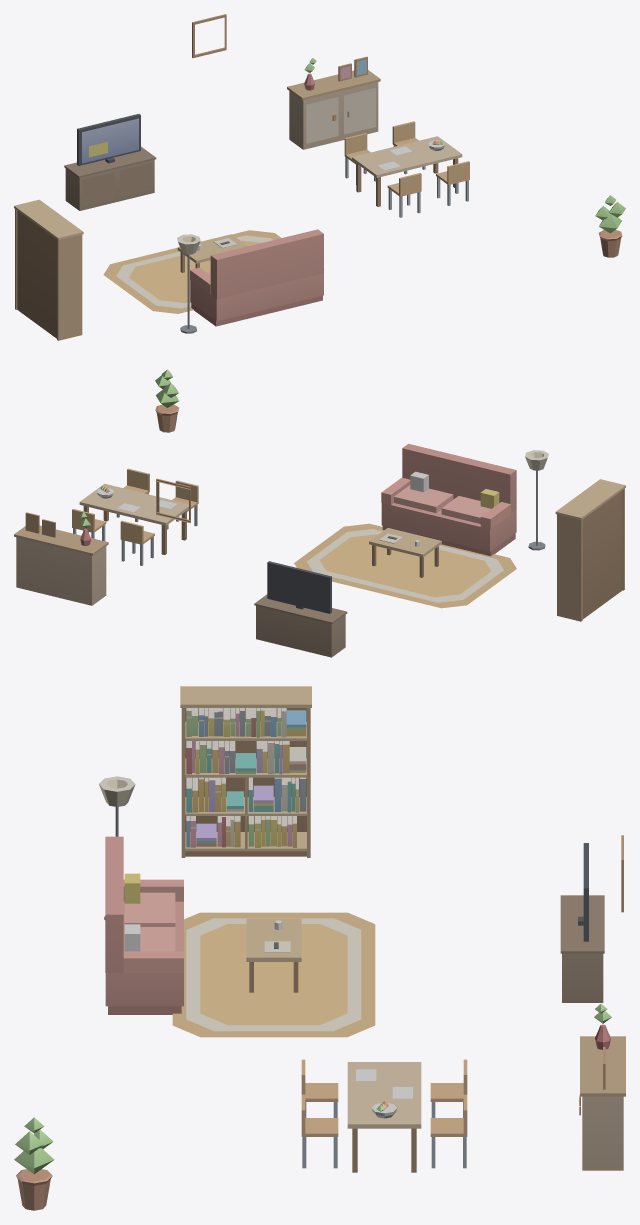
File: rumah1_interior_props.glb
The picture shows the model from 3 angles, top to bottom: view 1: azimuth 30°, elevation 25°; view 2: azimuth 150°, elevation 25°; view 3: azimuth 270°, elevation 25°; orthographic projection. The views are drawn at different scales.
Visible parts, largest first — view 1: sofa, rak_buku, unit_tv, kabinet, meja_makan, lalu_permaidani, pasu_1, meja_kopi, lampu_lantai; view 2: sofa, lalu_permaidani, rak_buku, kabinet, unit_tv, meja_makan, meja_kopi, pasu_1, lampu_lantai, lalu_bingkai; view 3: rak_buku, lalu_permaidani, sofa, meja_makan, kabinet, unit_tv, meja_kopi, pasu_1, lampu_lantai.
Boxes of the visible parts, x1,y1,x2,y2 form: sofa: [190, 229, 323, 326]; rak_buku: [14, 199, 83, 340]; unit_tv: [64, 114, 156, 210]; kabinet: [287, 56, 380, 149]; meja_makan: [344, 121, 469, 217]; lalu_permaidani: [103, 230, 324, 313]; pasu_1: [595, 195, 625, 257]; meja_kopi: [177, 234, 247, 272]; lampu_lantai: [177, 234, 200, 333]; sofa: [381, 443, 516, 556]; lalu_permaidani: [294, 523, 516, 608]; rak_buku: [555, 479, 625, 621]; kabinet: [14, 512, 108, 605]; unit_tv: [254, 561, 347, 657]; meja_makan: [72, 468, 198, 565]; meja_kopi: [369, 528, 441, 577]; pasu_1: [155, 369, 179, 432]; lampu_lantai: [525, 450, 548, 550]; lalu_bingkai: [156, 478, 190, 522]; rak_buku: [180, 686, 311, 857]; lalu_permaidani: [172, 912, 375, 1037]; sofa: [105, 836, 183, 1014]; meja_makan: [301, 1059, 467, 1172]; kabinet: [579, 1003, 625, 1170]; unit_tv: [560, 843, 604, 1002]; meja_kopi: [246, 918, 301, 992]; pasu_1: [14, 1117, 54, 1210]; lampu_lantai: [99, 776, 135, 919].
Bounding box in the file's own units: 9.65 × 2.52 × 6.64.
